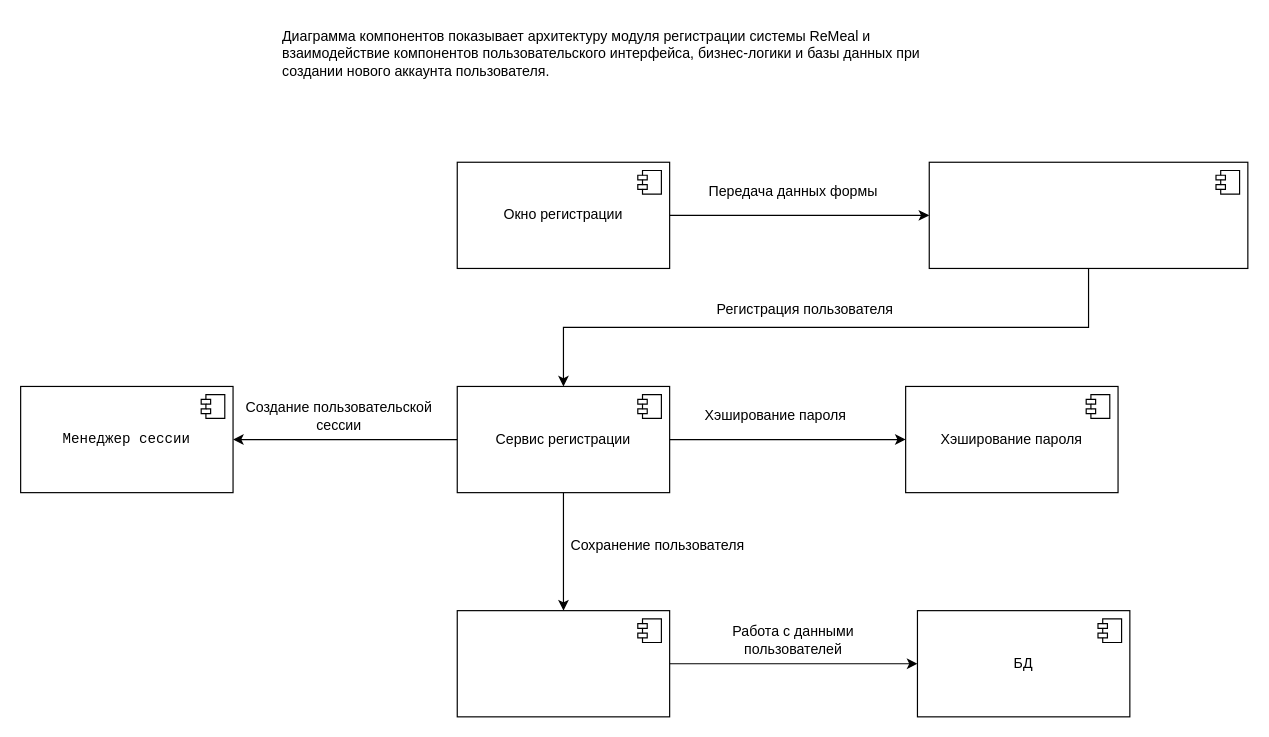
This 1269x737 diagram has some shape labels left out. The centre of each missing label's shape, as x and y in pixels:
"Модель представления регистрации" goes at pixel 1088 214.
"Репозиторий пользователей" goes at pixel 563 663.
